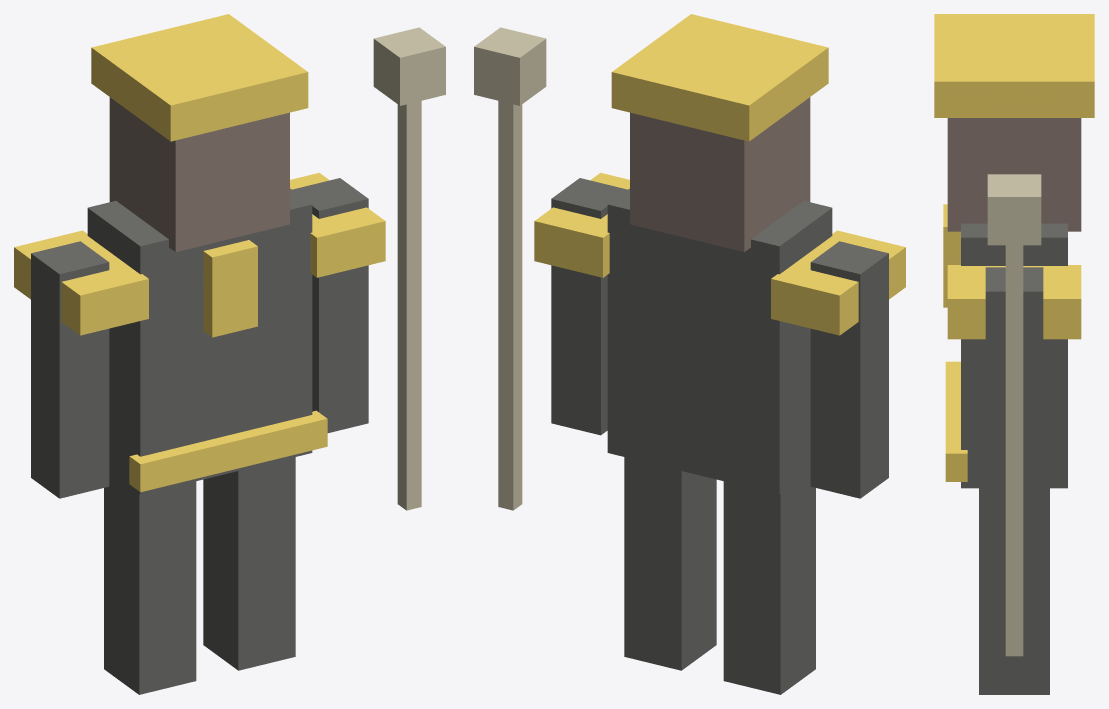
The model's file is 16_nix_dubwater_sentinel_from_main.glb.
3 renders of one model, left to right at view 1: azimuth 30°, elevation 25°; view 2: azimuth 150°, elevation 25°; view 3: azimuth 270°, elevation 25°, orthographic.
Parts seen in each view (by area): view 1: Nix Dubwater, Sentinel from Main; view 2: Nix Dubwater, Sentinel from Main; view 3: Nix Dubwater, Sentinel from Main.
Boxes of the visible parts, x1,y1,x2,y2 form: Nix Dubwater, Sentinel from Main: (14,14,445,694); Nix Dubwater, Sentinel from Main: (474,14,905,694); Nix Dubwater, Sentinel from Main: (934,14,1094,694).
Size of the model in its own units: 0.9774 by 1.45 by 0.3467.
